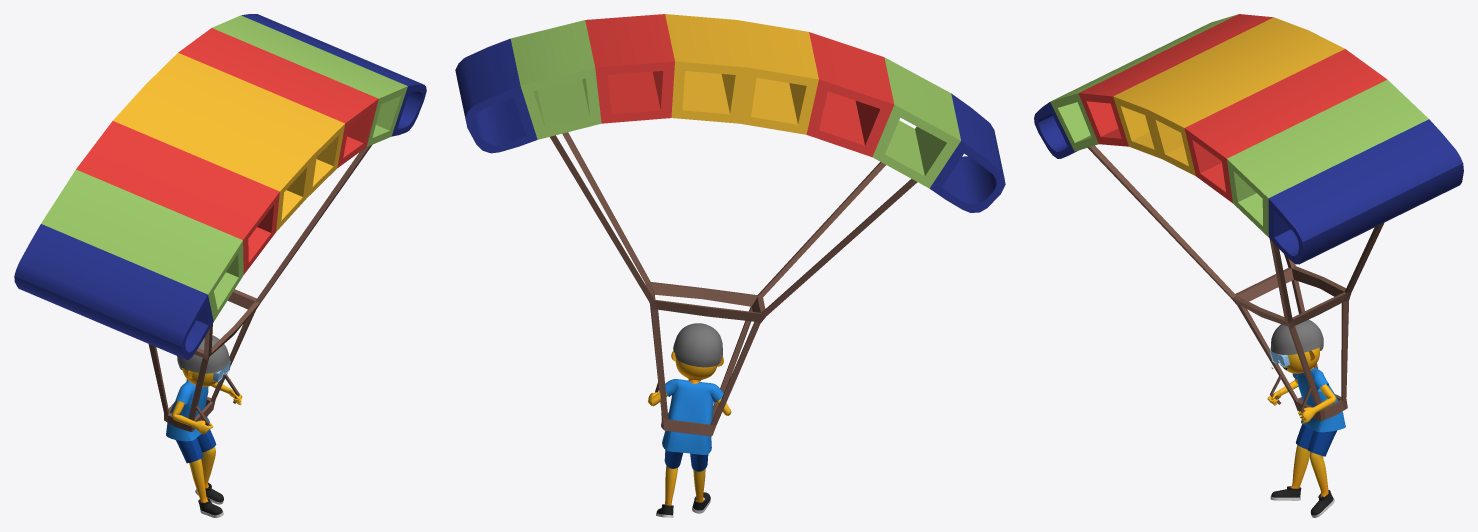
The model's file is parachute.fbx.
The picture shows the model from 3 angles, left to right: view 1: azimuth 30°, elevation 25°; view 2: azimuth 150°, elevation 25°; view 3: azimuth 270°, elevation 25°; orthographic projection. The views are drawn at different scales.
Visible parts, largest first — view 1: Cube.801; view 2: Cube.801; view 3: Cube.801.
Boxes of the visible parts, <box> form: Cube.801: <box>14,14,426,517</box>; Cube.801: <box>455,14,1005,517</box>; Cube.801: <box>1034,14,1463,517</box>.
Size of the model in its own units: 242 by 222 by 190.
Materials: 1 (1 with a texture image).
